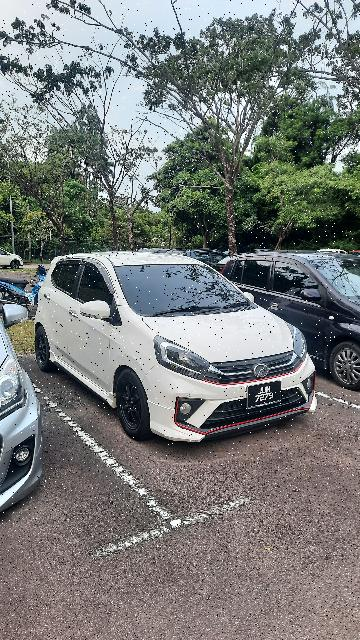License_Plate: (243, 380, 288, 413)
car: (39, 248, 322, 444), (225, 251, 360, 391), (1, 306, 49, 518)
